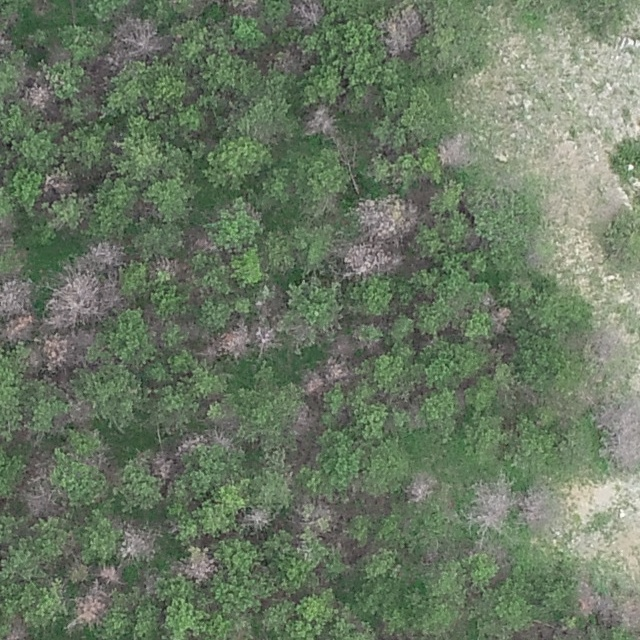unhealthy: (593, 397, 638, 467), (356, 193, 418, 243), (44, 268, 97, 324), (108, 14, 167, 58), (378, 3, 421, 56), (470, 479, 514, 529), (339, 239, 389, 276), (115, 520, 157, 559), (72, 586, 110, 628), (80, 237, 127, 270), (587, 325, 628, 362), (0, 274, 34, 317), (178, 548, 218, 584), (20, 486, 63, 518), (303, 103, 340, 140), (436, 131, 471, 168), (517, 488, 550, 527), (41, 333, 75, 370), (219, 321, 252, 358), (273, 44, 311, 76), (98, 275, 126, 316), (1, 314, 35, 346), (573, 581, 601, 619), (290, 0, 326, 29), (404, 471, 435, 504), (41, 167, 75, 196), (511, 620, 560, 640), (22, 81, 54, 110), (290, 403, 317, 437), (620, 591, 640, 633), (150, 451, 177, 480), (596, 594, 619, 626), (300, 369, 324, 398), (252, 323, 276, 352), (242, 506, 272, 529), (188, 233, 219, 254), (94, 564, 122, 587), (178, 0, 213, 18), (325, 357, 350, 382), (5, 616, 31, 640), (331, 335, 356, 359), (178, 431, 209, 450), (227, 0, 261, 17), (489, 304, 510, 331), (28, 0, 55, 18), (24, 345, 42, 370), (0, 30, 12, 56), (480, 292, 495, 308)
